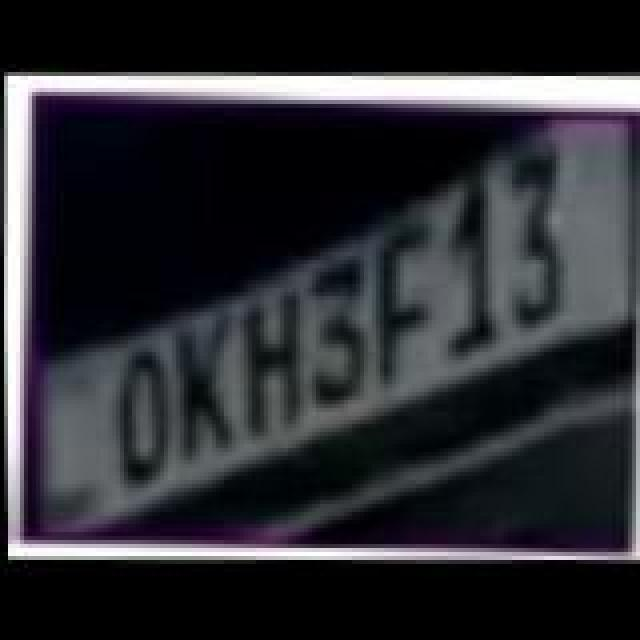1: (436, 164, 508, 364)
3: (496, 148, 576, 328), (306, 250, 374, 406)
F: (374, 226, 442, 386)
H: (238, 288, 306, 440)
K: (170, 312, 242, 464)
O: (108, 344, 176, 484)
